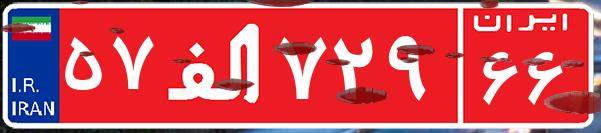2: (330, 28, 385, 110)
5: (57, 26, 110, 107)
6: (475, 38, 525, 113), (525, 38, 570, 115)
7: (273, 28, 330, 110), (110, 28, 158, 105)
9: (385, 28, 445, 110)
الف: (158, 15, 273, 115)
